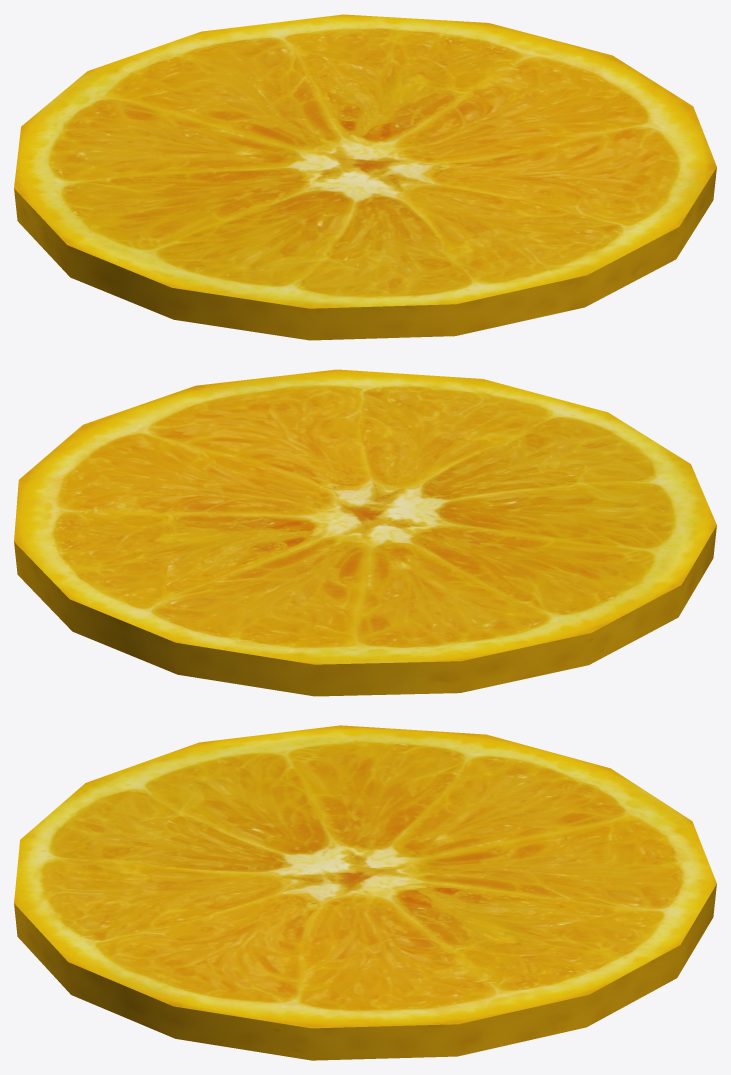
File: LemonSlice.fbx
3 views of the same model, one above another, from view 1: azimuth 30°, elevation 25°; view 2: azimuth 150°, elevation 25°; view 3: azimuth 270°, elevation 25° (orthographic).
Parts seen in each view (by area): view 1: Default_Layer; view 2: Default_Layer; view 3: Default_Layer.
Boxes of the visible parts, left/top/right/bottom form: Default_Layer: left=14, top=14, right=716, bottom=340; Default_Layer: left=14, top=369, right=716, bottom=696; Default_Layer: left=14, top=725, right=716, bottom=1060.
Bounding box in the file's own units: 16.5 × 0.8577 × 16.18.
